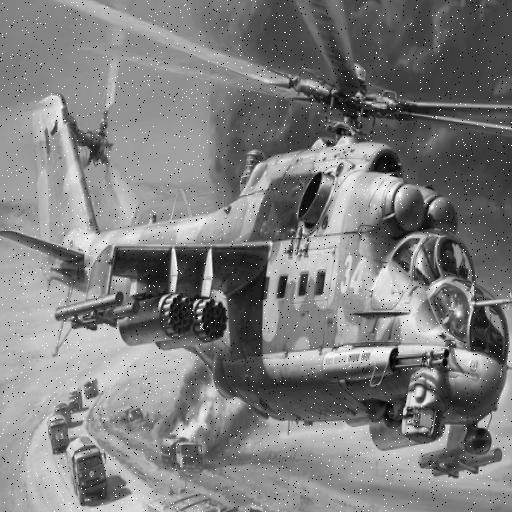helicopter: (26, 1, 512, 512)
